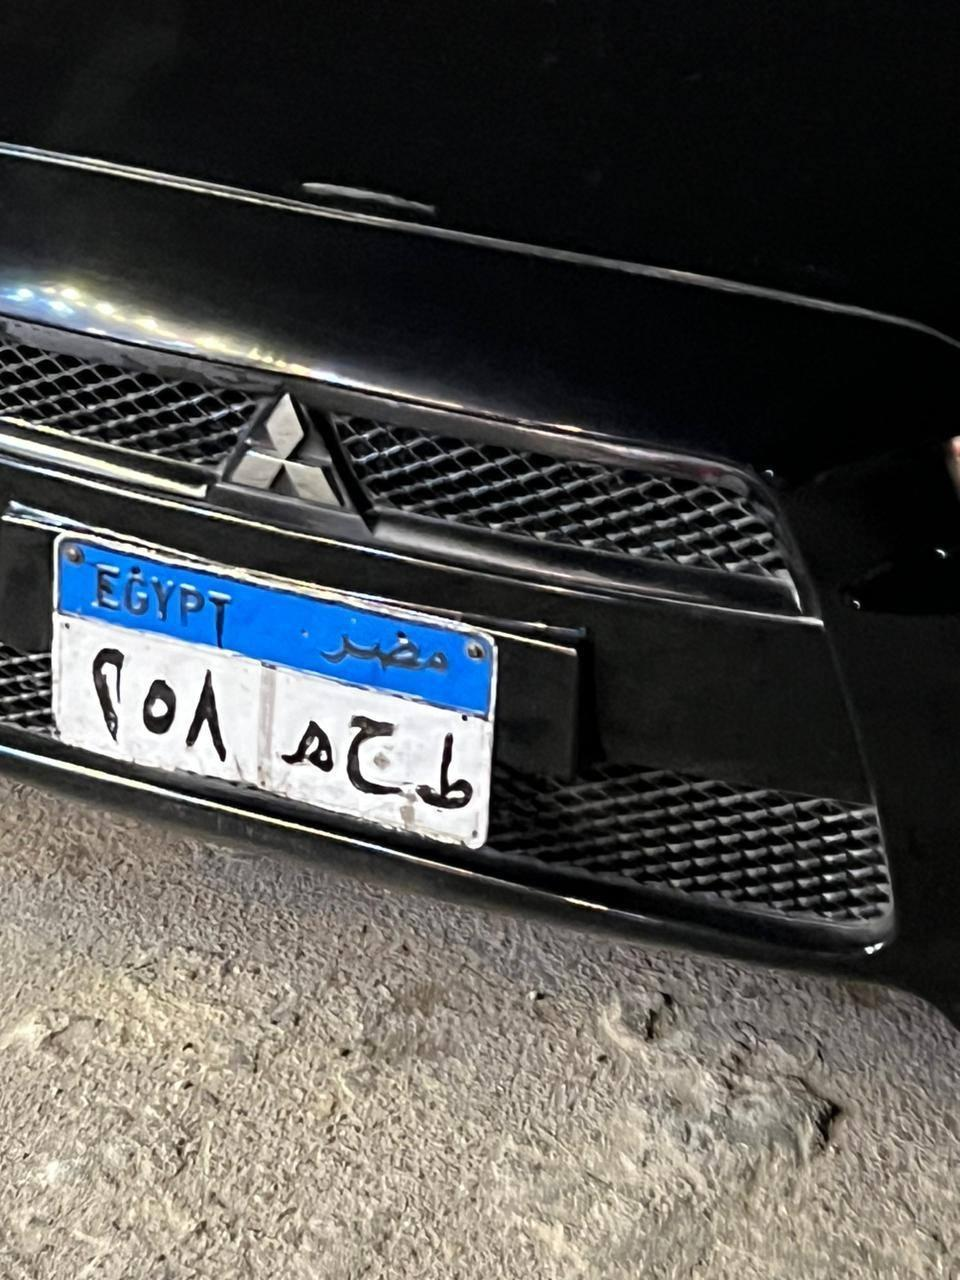2: (96, 624, 138, 761)
5: (138, 660, 176, 751)
8: (185, 651, 246, 772)
Heeh: (272, 716, 351, 784)
License Plate: (53, 533, 499, 850)
Taa: (413, 719, 480, 816)
geem: (342, 691, 414, 801)
